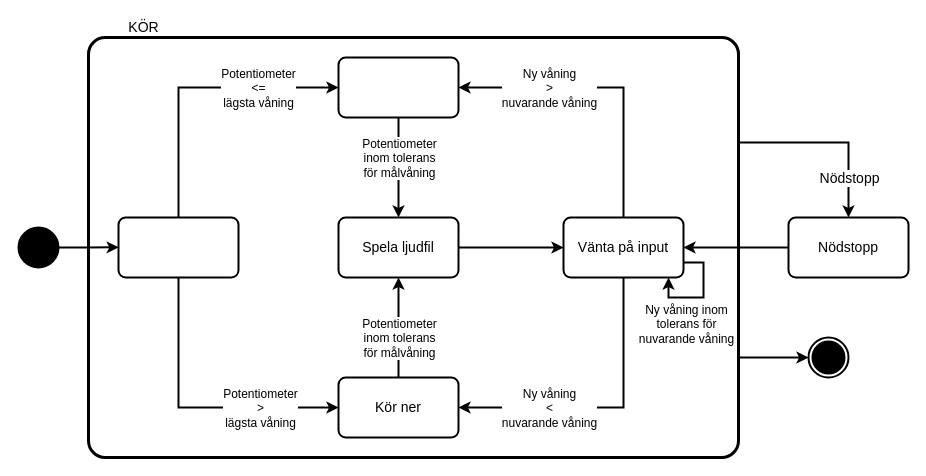
Image size: 926x476. Some labels were removed from this diagram. Each missing label, with the centre of its shape:
"Initialtillstånd" belongs at (178,247).
"Kör upp" belongs at (398,87).
